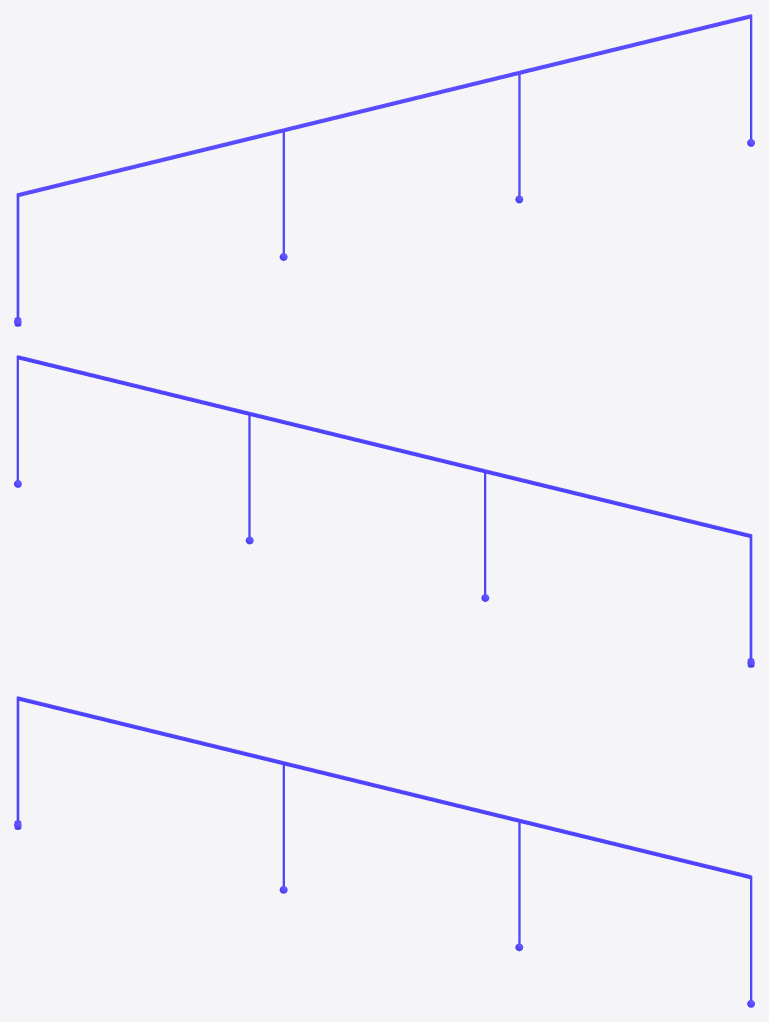
The model's file is SegnSocial2.gltf.
3 views of the same model, one above another, from view 1: azimuth 30°, elevation 25°; view 2: azimuth 150°, elevation 25°; view 3: azimuth 330°, elevation 25° (orthographic).
Visible parts, largest first — view 1: ListnerModuli.013; view 2: ListnerModuli.013; view 3: ListnerModuli.013.
Part boxes in pixels (bbox=[...]): ListnerModuli.013: bbox=[14, 14, 754, 326]; ListnerModuli.013: bbox=[14, 355, 754, 667]; ListnerModuli.013: bbox=[14, 696, 754, 1007].
Bounding box in the file's own units: 4.57 × 0.7783 × 0.0422.
